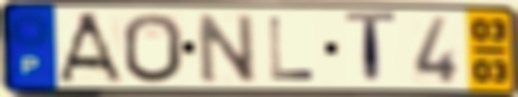4: (411, 14, 462, 86)
A: (55, 11, 127, 86)
L: (266, 15, 318, 83)
N: (194, 11, 260, 86)
O: (120, 11, 186, 85)
T: (342, 9, 399, 89)
